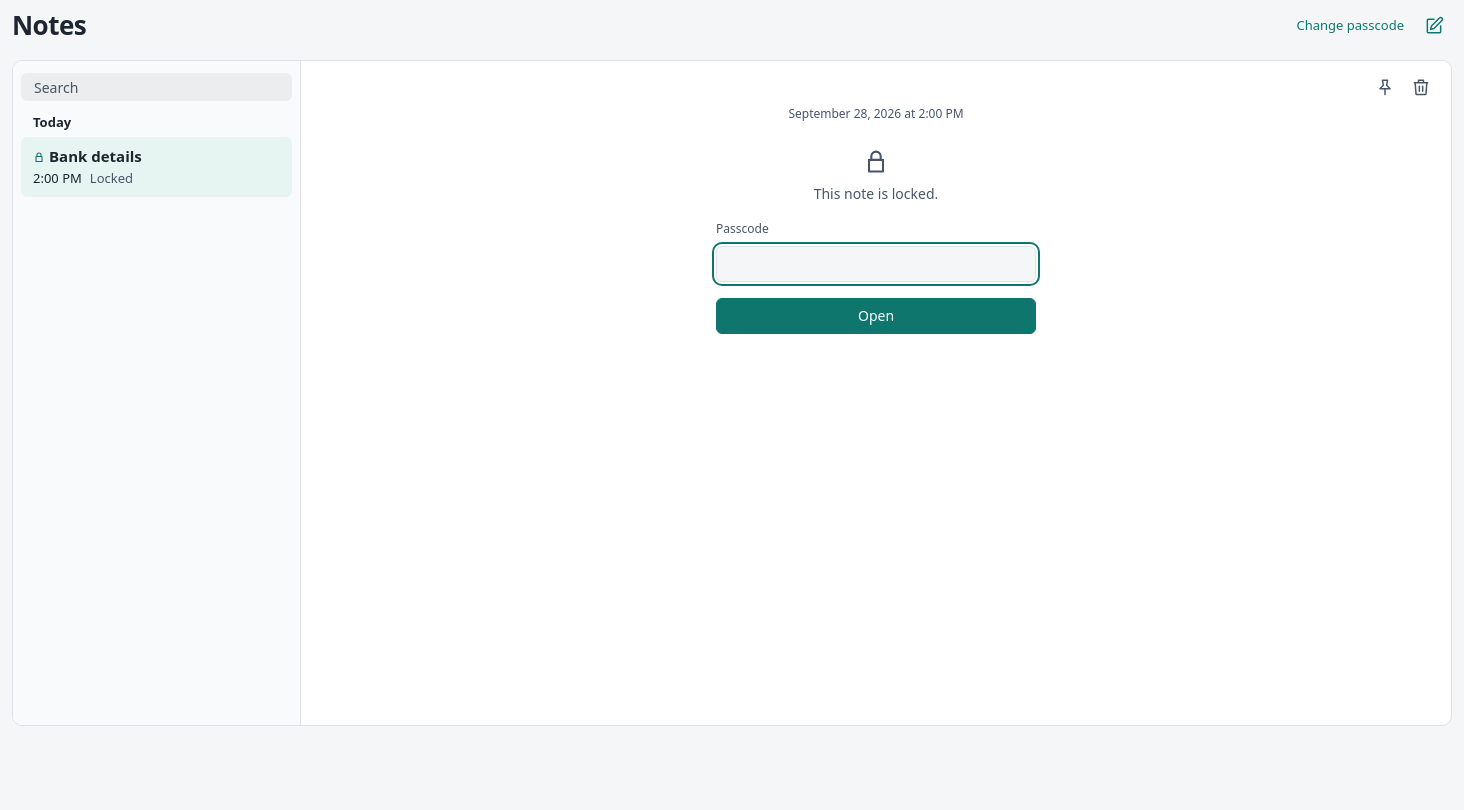
Test: AC-82.3 a wrong passcode says so and opens nothing
Type "hunter23" into the password field labelled "Passcode" at (876, 264), box x1=716 y1=246 x2=1036 y2=282
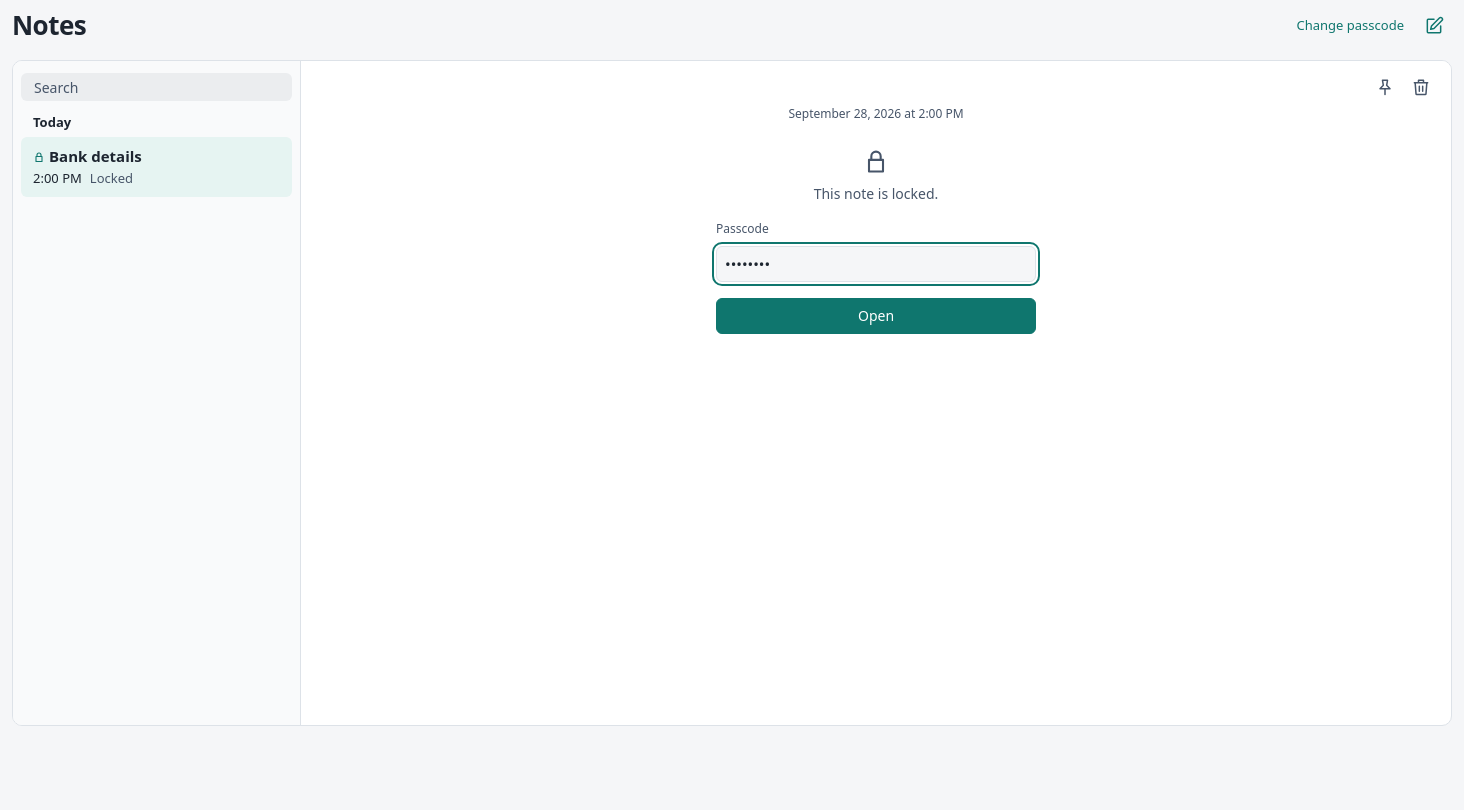
Click the button "Open" at (876, 316), box x1=716 y1=298 x2=1036 y2=334
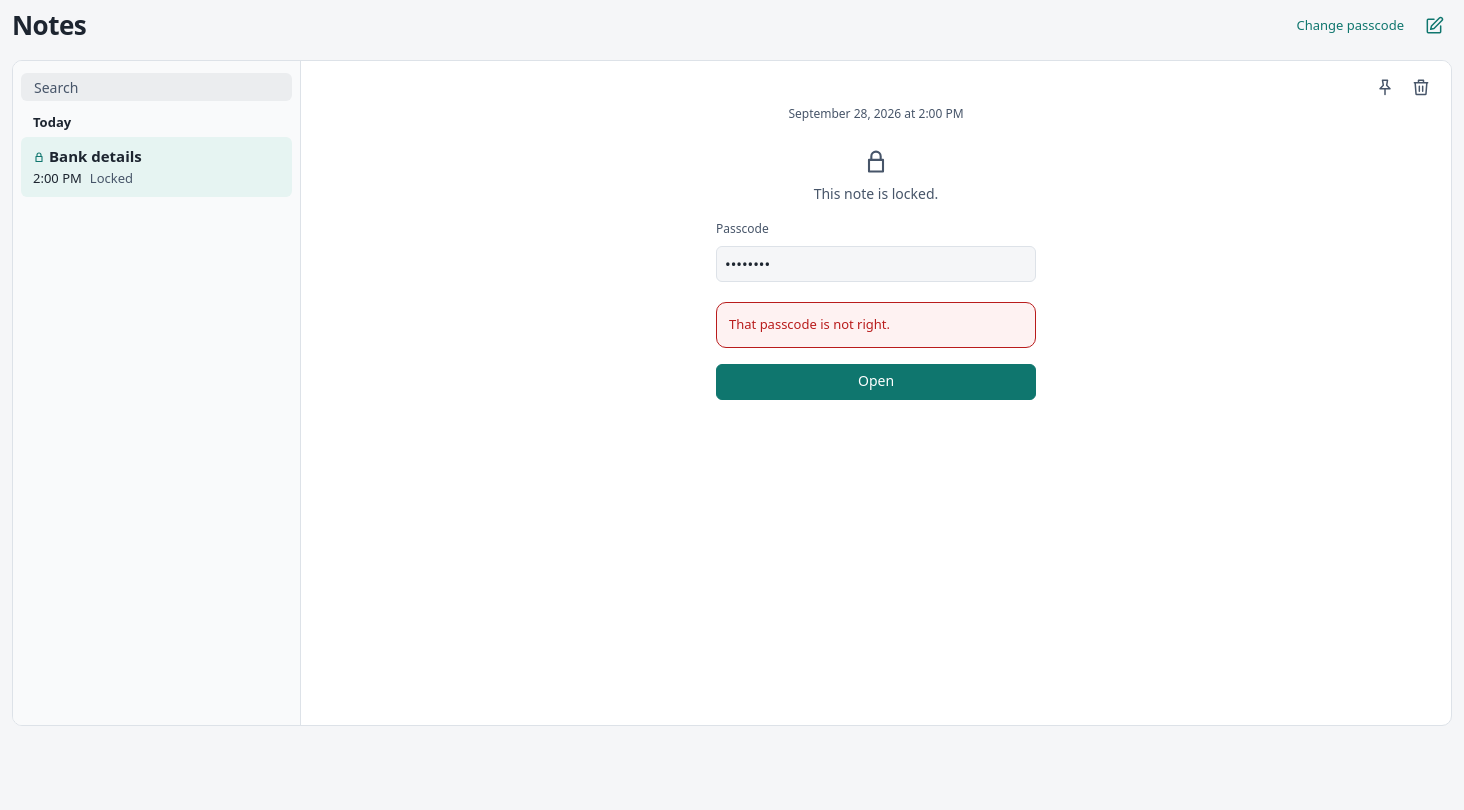
Check: the message reads "That passcode is not right.", box x1=729 y1=315 x2=890 y2=333
